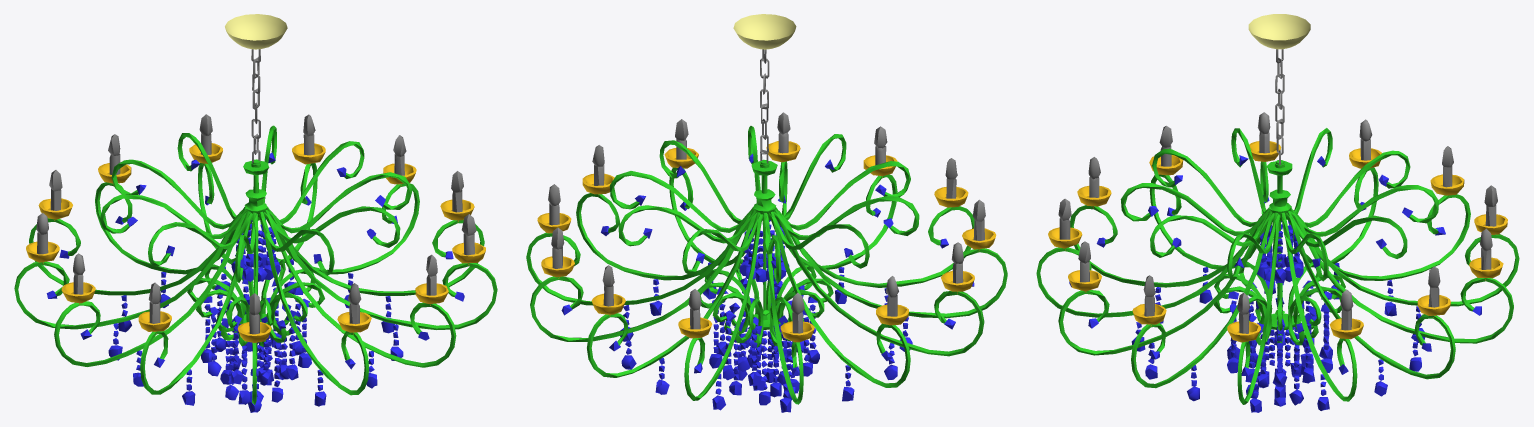
The model's file is Chaindelier.FBX.
3 renders of one model, left to right at view 1: azimuth 30°, elevation 25°; view 2: azimuth 150°, elevation 25°; view 3: azimuth 270°, elevation 25°, orthographic.
Visible parts, largest first — view 1: Chaindelier; view 2: Chaindelier; view 3: Chaindelier.
Boxes of the visible parts, x1=… form: Chaindelier: x1=14, y1=14, x2=497, y2=412; Chaindelier: x1=526, y1=14, x2=1007, y2=412; Chaindelier: x1=1036, y1=14, x2=1519, y2=412.
Size of the model in its own units: 10.09 by 8.7 by 10.08.
